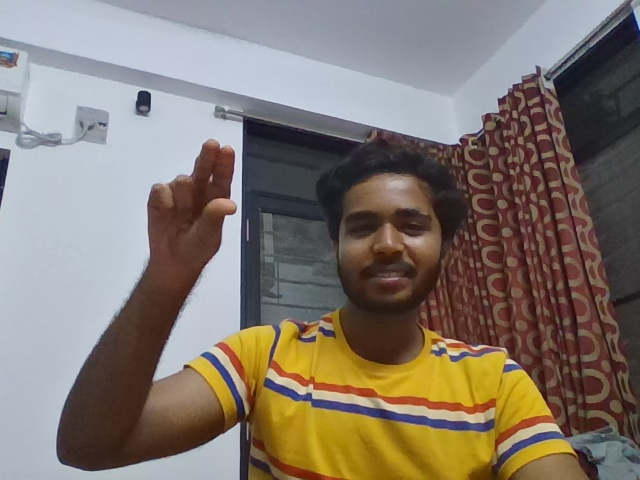No: (118, 133, 280, 288)
